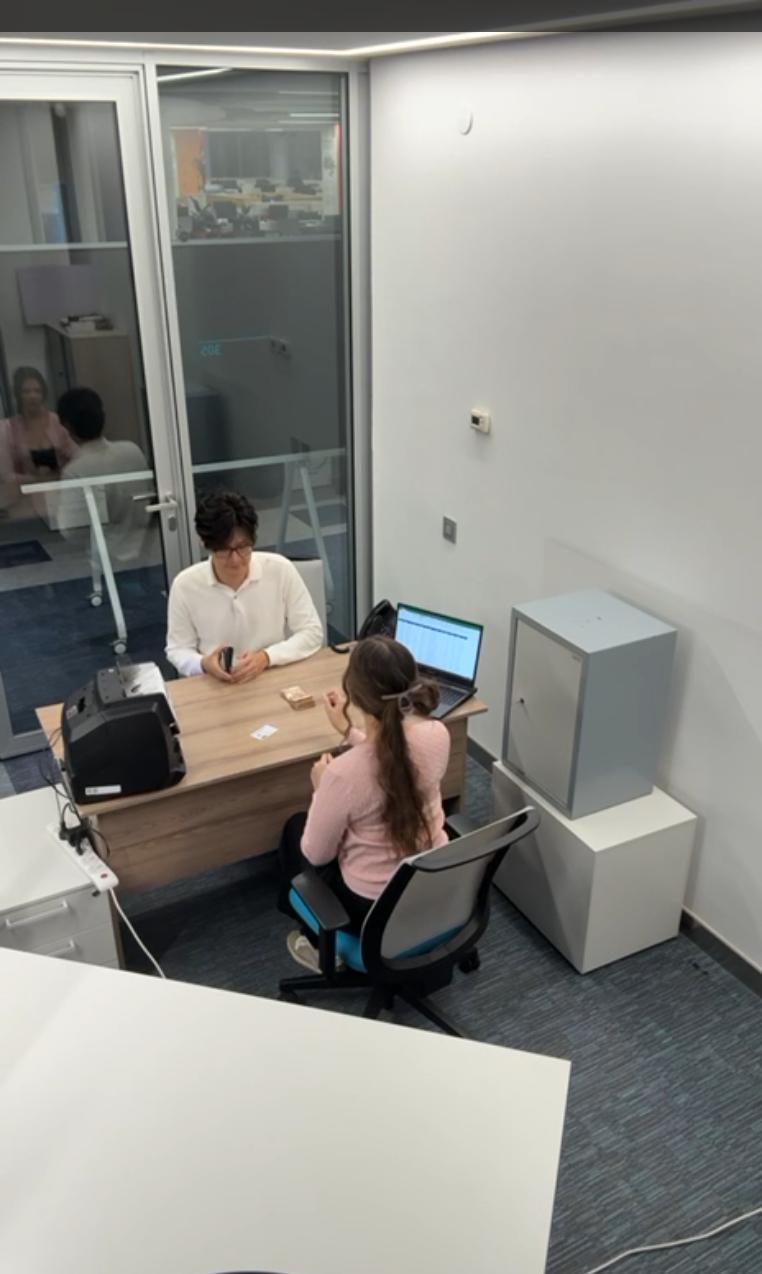cash_stack: (273, 676, 321, 719)
counter: (60, 662, 190, 804)
document: (242, 719, 282, 753)
key_in: (508, 690, 532, 720)
screen_on: (396, 608, 486, 682)
